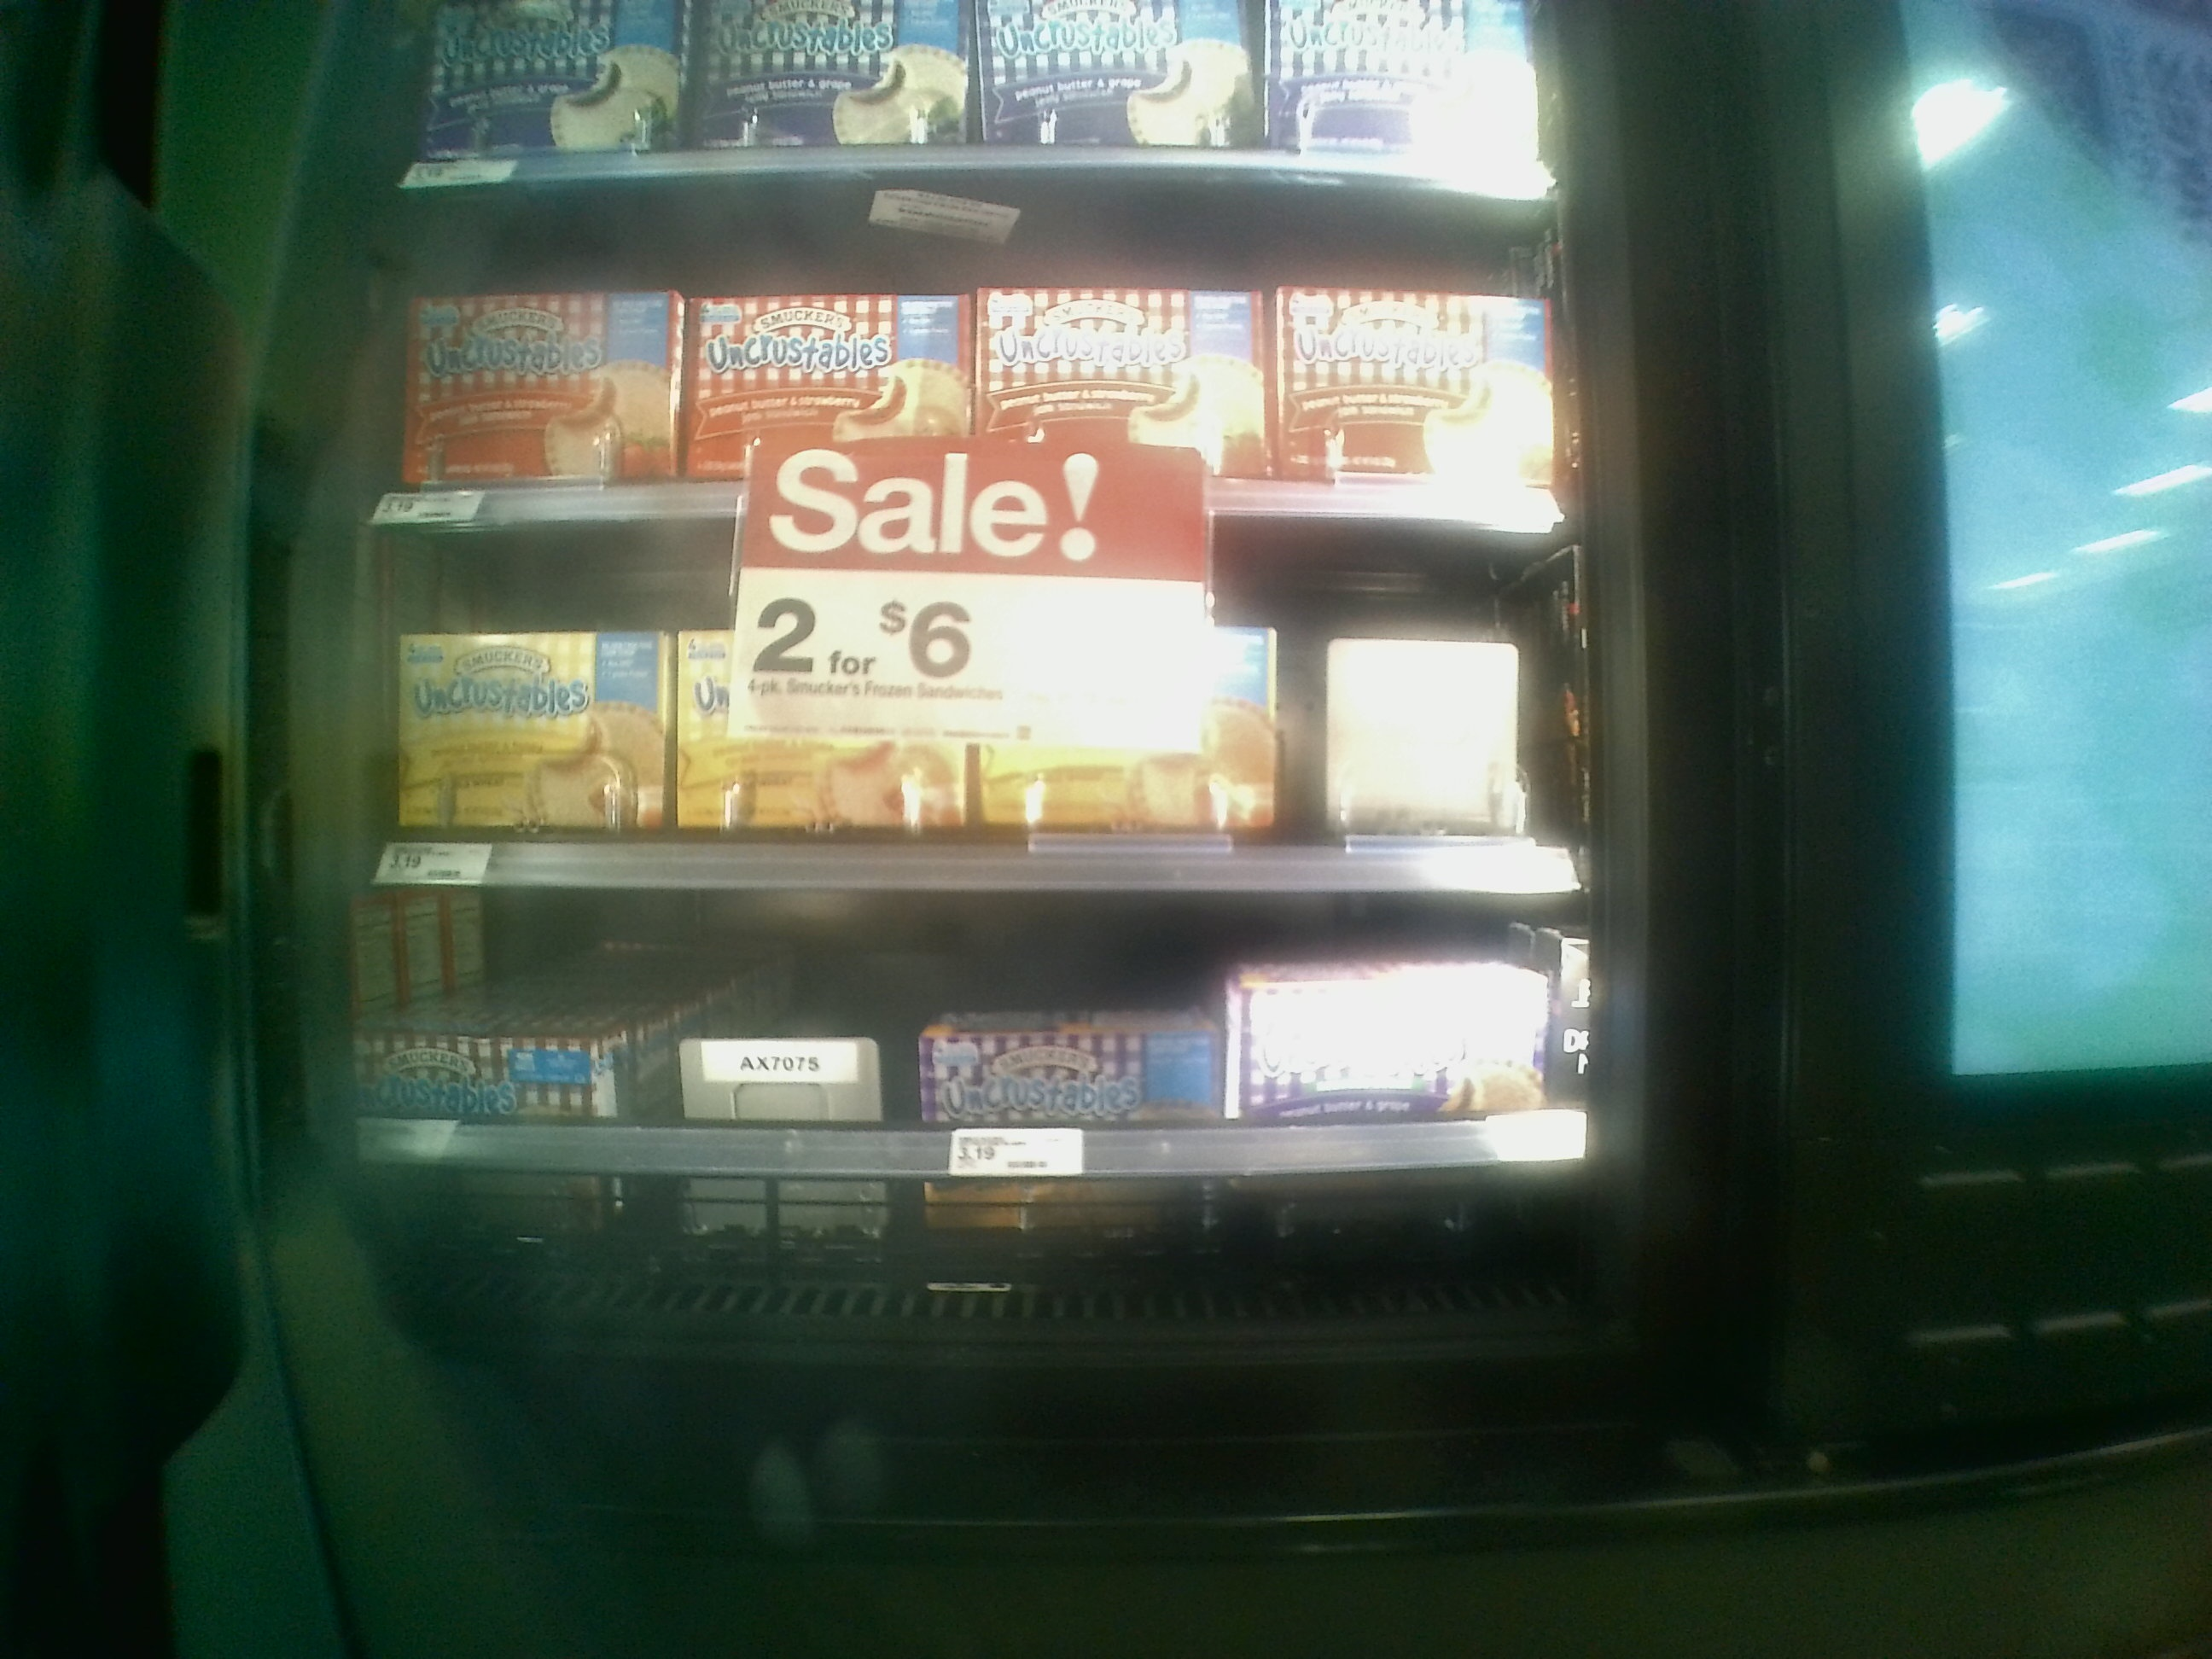shelf: (329, 887, 1609, 1356), (355, 532, 1575, 908), (355, 185, 1575, 544)
